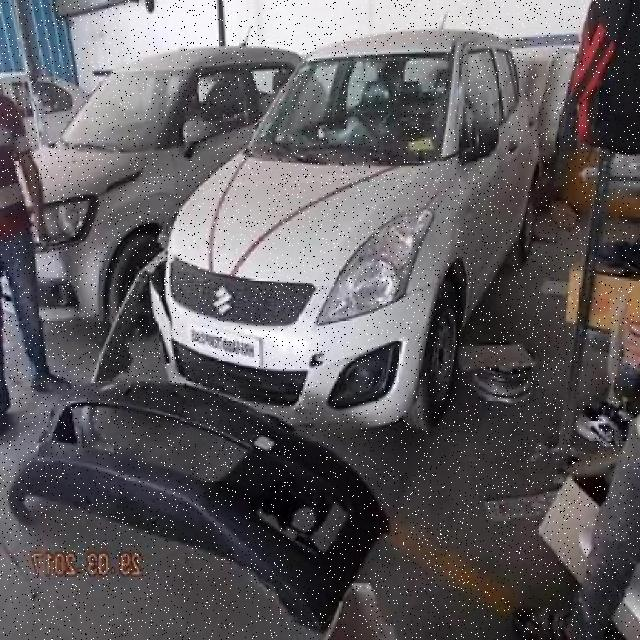damage: (152, 208, 181, 335)
